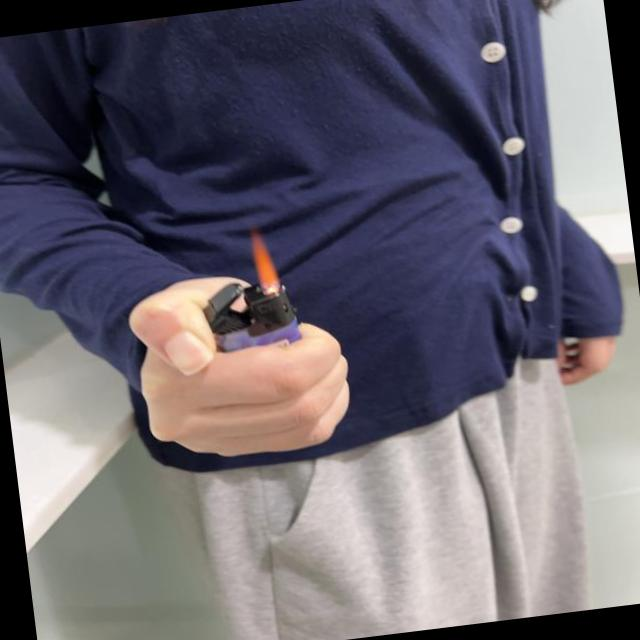Fire: (243, 223, 282, 298)
